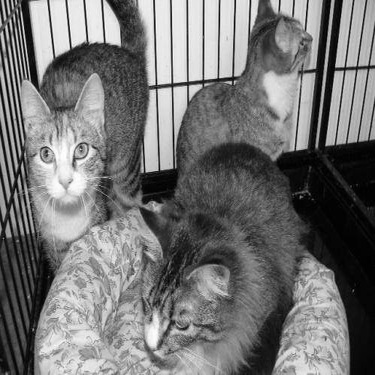cat: (134, 139, 307, 369), (15, 4, 151, 278), (174, 1, 314, 168)
